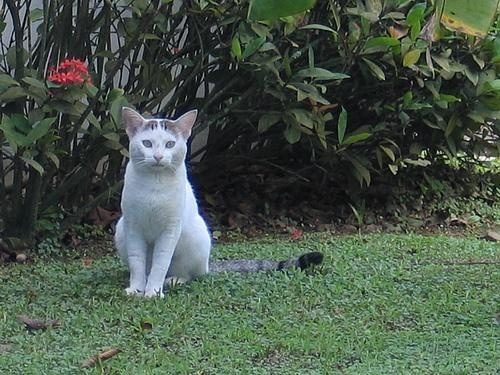cat: (116, 107, 212, 301)
